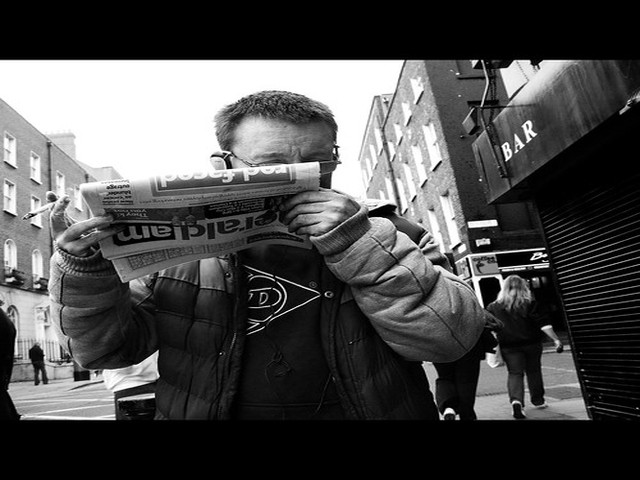Person: (111, 80, 465, 425), (489, 272, 561, 414), (29, 341, 55, 388)
